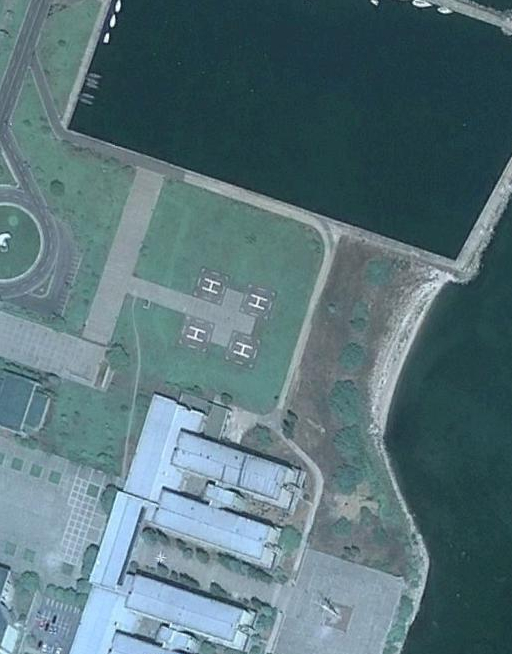heliport: (184, 323, 207, 343), (245, 291, 268, 310), (231, 340, 254, 359), (199, 276, 221, 295)
